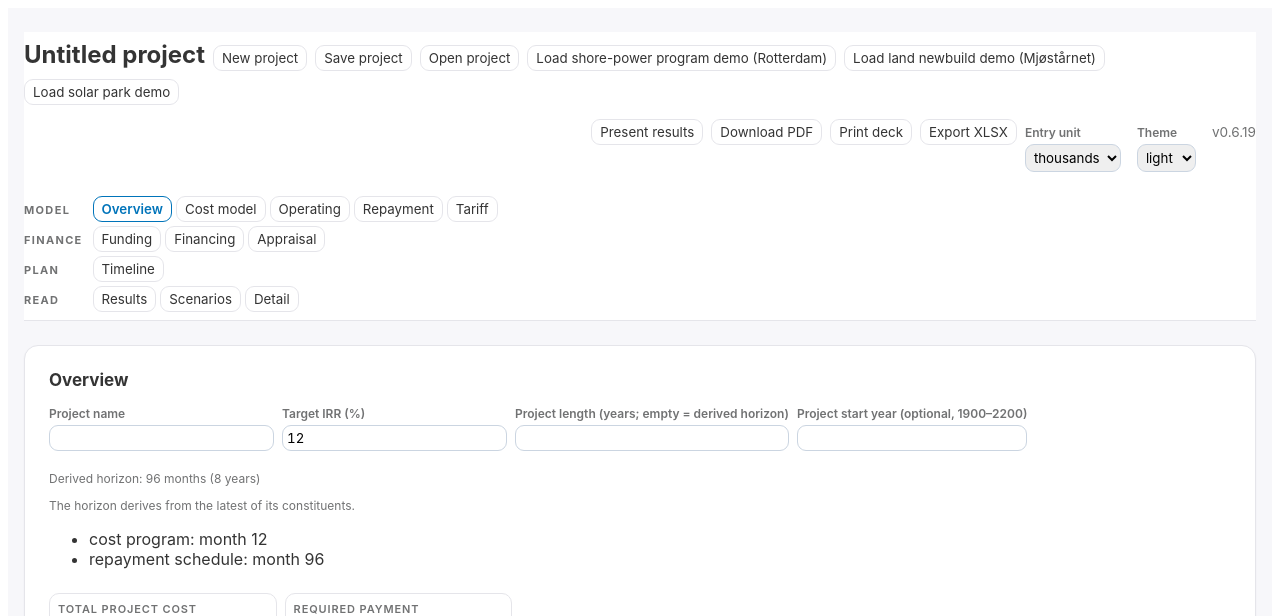
Test: v0.6 chunk 4 — the web surfaces › BOOK-VIEW and TERM-POSITIONS render through the engine on the Results surface (v0.6.7 re-anchor: the land fixture via load-multi-lease-demo; tariff and contract
Click the button "Load land newbuild demo (Mjøstårnet)" at {"x": 974, "y": 58}, box [844,45,1105,71]
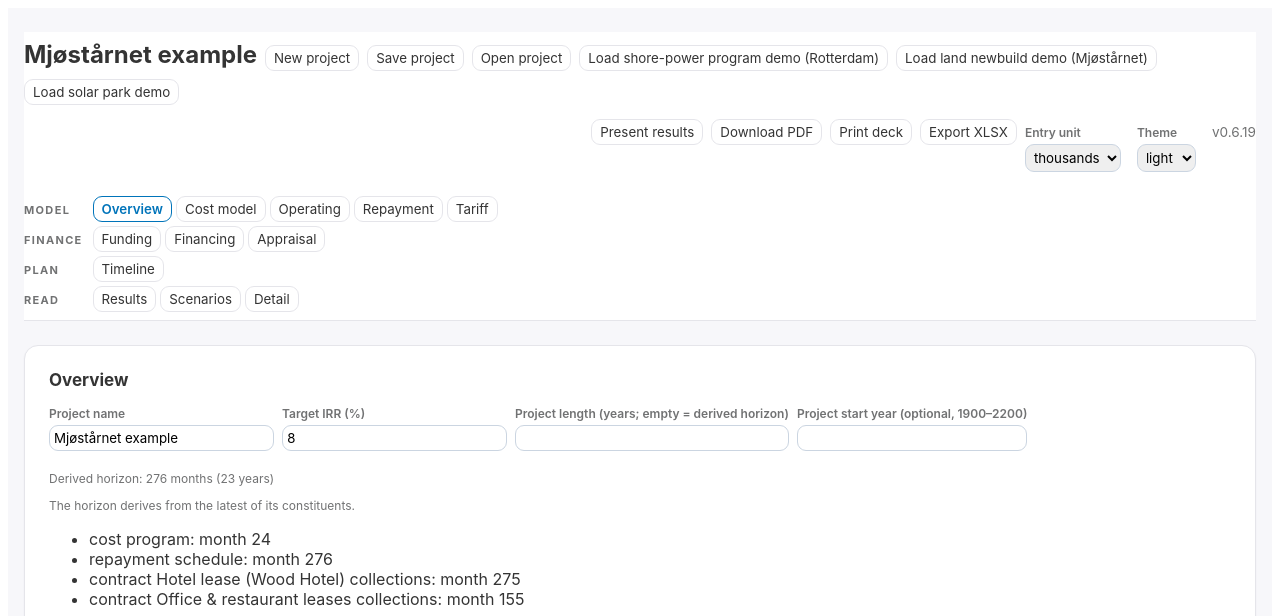
Click the button "Results" at {"x": 124, "y": 299}, box [92,286,156,312]
(page scrolled)
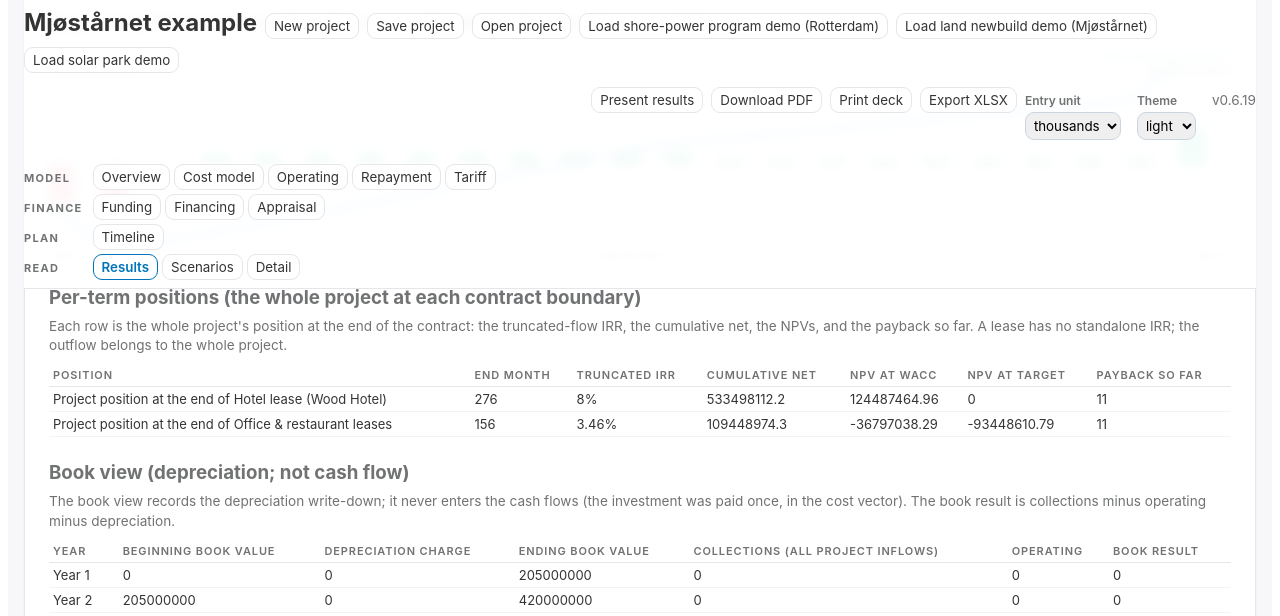
Now the text with test id "book-view-disclosure" shows "never enters the cash flows", box [49,493,1206,529]
Now the table with test id "term-positions" is shown, box [49,364,1231,437]
